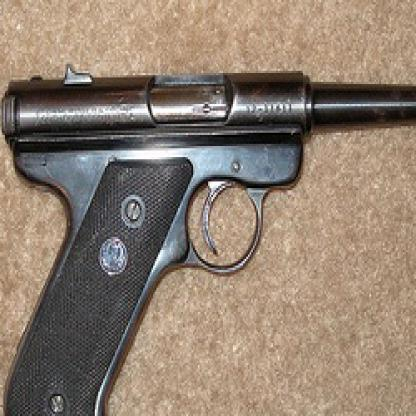gun: (0, 55, 415, 414)
